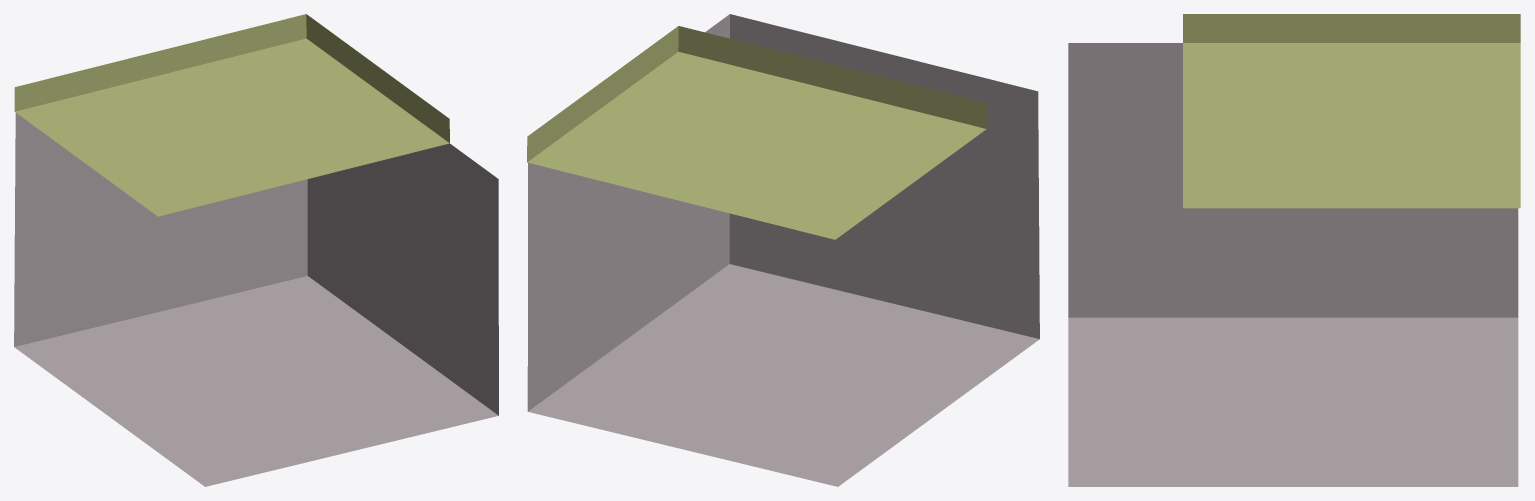
3 renders of one model, left to right at view 1: azimuth 30°, elevation 25°; view 2: azimuth 150°, elevation 25°; view 3: azimuth 270°, elevation 25°, orthographic. The views are drawn at different scales.
Parts seen in each view (by area): view 1: 0_2_2_0_0_0_0_1_2_3; view 2: 0_2_2_0_0_0_0_1_2_3; view 3: 0_2_2_0_0_0_0_1_2_3.
Part boxes in pixels (x1,y1,x2,y2): 0_2_2_0_0_0_0_1_2_3: (14, 14, 498, 486); 0_2_2_0_0_0_0_1_2_3: (527, 14, 1039, 486); 0_2_2_0_0_0_0_1_2_3: (1068, 14, 1520, 486).
Bounding box in the file's own units: 10.65 × 9.05 × 12.06.
